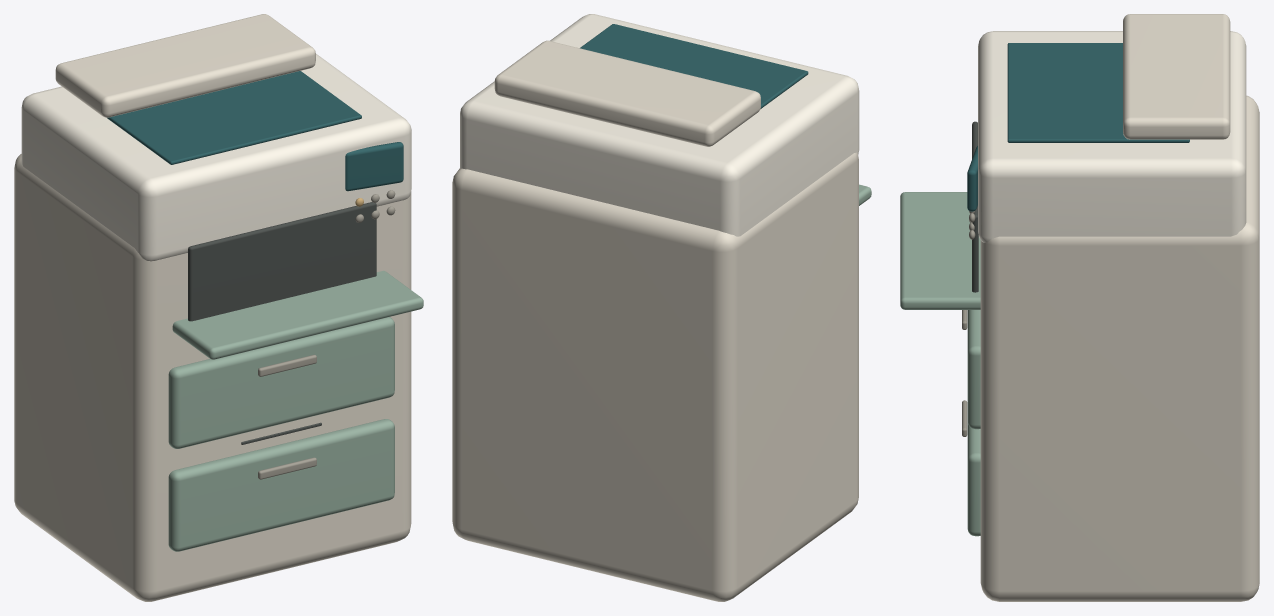
Rendered from copier.glb.
3 renders of one model, left to right at view 1: azimuth 30°, elevation 25°; view 2: azimuth 150°, elevation 25°; view 3: azimuth 270°, elevation 25°, orthographic. The views are drawn at different scales.
Visible parts, largest first — view 1: Lower copier cabinet, Upper scanner unit, Paper cassette, Paper cassette.001, Document feeder, Output cavity, Scanner glass, Output shelf, Touch display, Cassette pull, Cassette pull.001; view 2: Lower copier cabinet, Upper scanner unit, Document feeder, Scanner glass; view 3: Lower copier cabinet, Upper scanner unit, Document feeder, Scanner glass, Output shelf, Paper cassette.001, Paper cassette, Output cavity, Touch display.
Boxes of the visible parts, box(x1,y1,x2,y2) form: Lower copier cabinet: box(14, 154, 411, 601); Upper scanner unit: box(21, 54, 411, 261); Paper cassette: box(168, 419, 394, 551); Paper cassette.001: box(168, 317, 394, 448); Document feeder: box(55, 14, 315, 117); Output cavity: box(188, 202, 376, 321); Scanner glass: box(107, 71, 361, 164); Output shelf: box(172, 270, 423, 359); Touch display: box(345, 142, 403, 191); Cassette pull: box(258, 457, 316, 479); Cassette pull.001: box(258, 354, 316, 376); Lower copier cabinet: box(452, 152, 858, 601); Upper scanner unit: box(460, 14, 859, 236); Document feeder: box(494, 40, 760, 146); Scanner glass: box(580, 24, 808, 108); Lower copier cabinet: box(980, 95, 1259, 601); Upper scanner unit: box(978, 31, 1246, 242); Document feeder: box(1123, 14, 1230, 139); Scanner glass: box(1007, 43, 1189, 142); Output shelf: box(900, 192, 980, 309); Paper cassette.001: box(967, 310, 980, 429); Paper cassette: box(967, 423, 980, 536); Output cavity: box(972, 121, 978, 292); Touch display: box(967, 146, 977, 211).
Size of the model in its own units: 0.62 by 0.9705 by 0.67.
